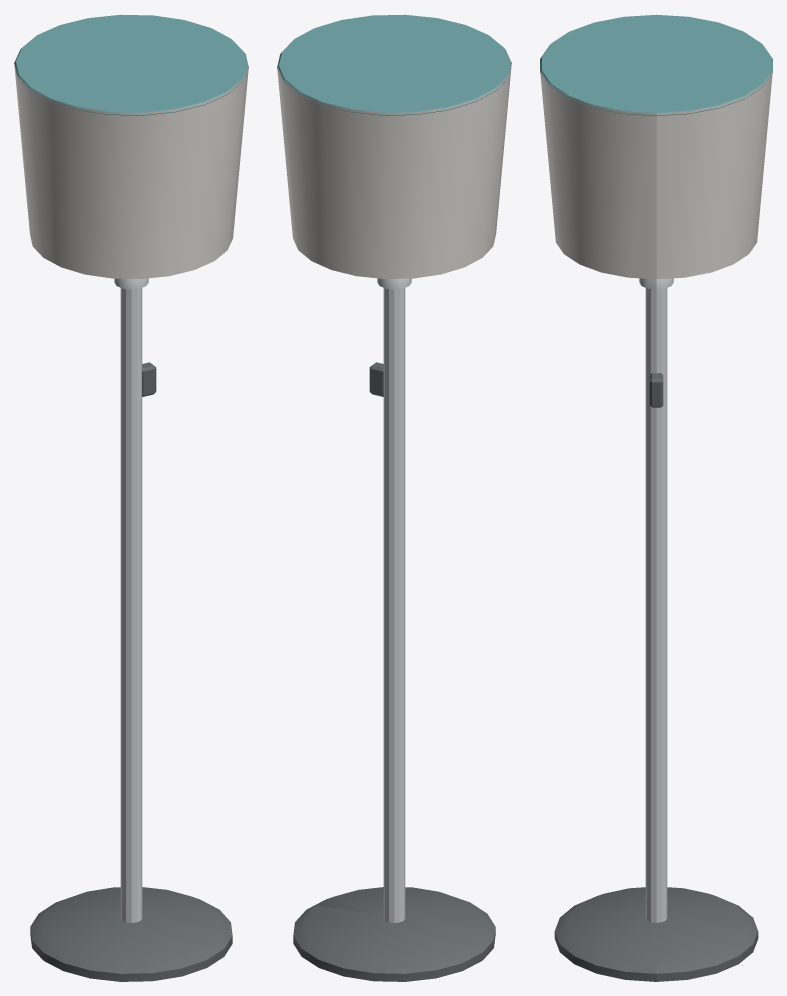
3 renders of one model, left to right at view 1: azimuth 30°, elevation 25°; view 2: azimuth 150°, elevation 25°; view 3: azimuth 270°, elevation 25°, orthographic.
Parts seen in each view (by area): view 1: floor-lamp; view 2: floor-lamp; view 3: floor-lamp.
Part boxes in pixels (box(x1,y1,x2,y2)): floor-lamp: box(14, 14, 248, 981); floor-lamp: box(277, 14, 511, 981); floor-lamp: box(540, 14, 772, 981).
Size of the model in its own units: 0.37 by 1.52 by 0.3663.
